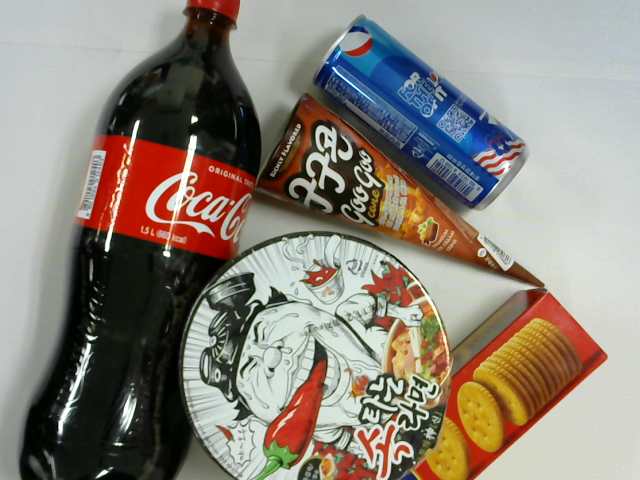Coca_Cola_1.5L: (17, 1, 262, 480)
GooGoo_Cone_CVS: (253, 97, 556, 290)
HeJangsock: (179, 231, 452, 480)
Pepsi_Cola_Can_250ml: (312, 16, 528, 208)
Ritz_Cracker: (398, 290, 610, 480)
